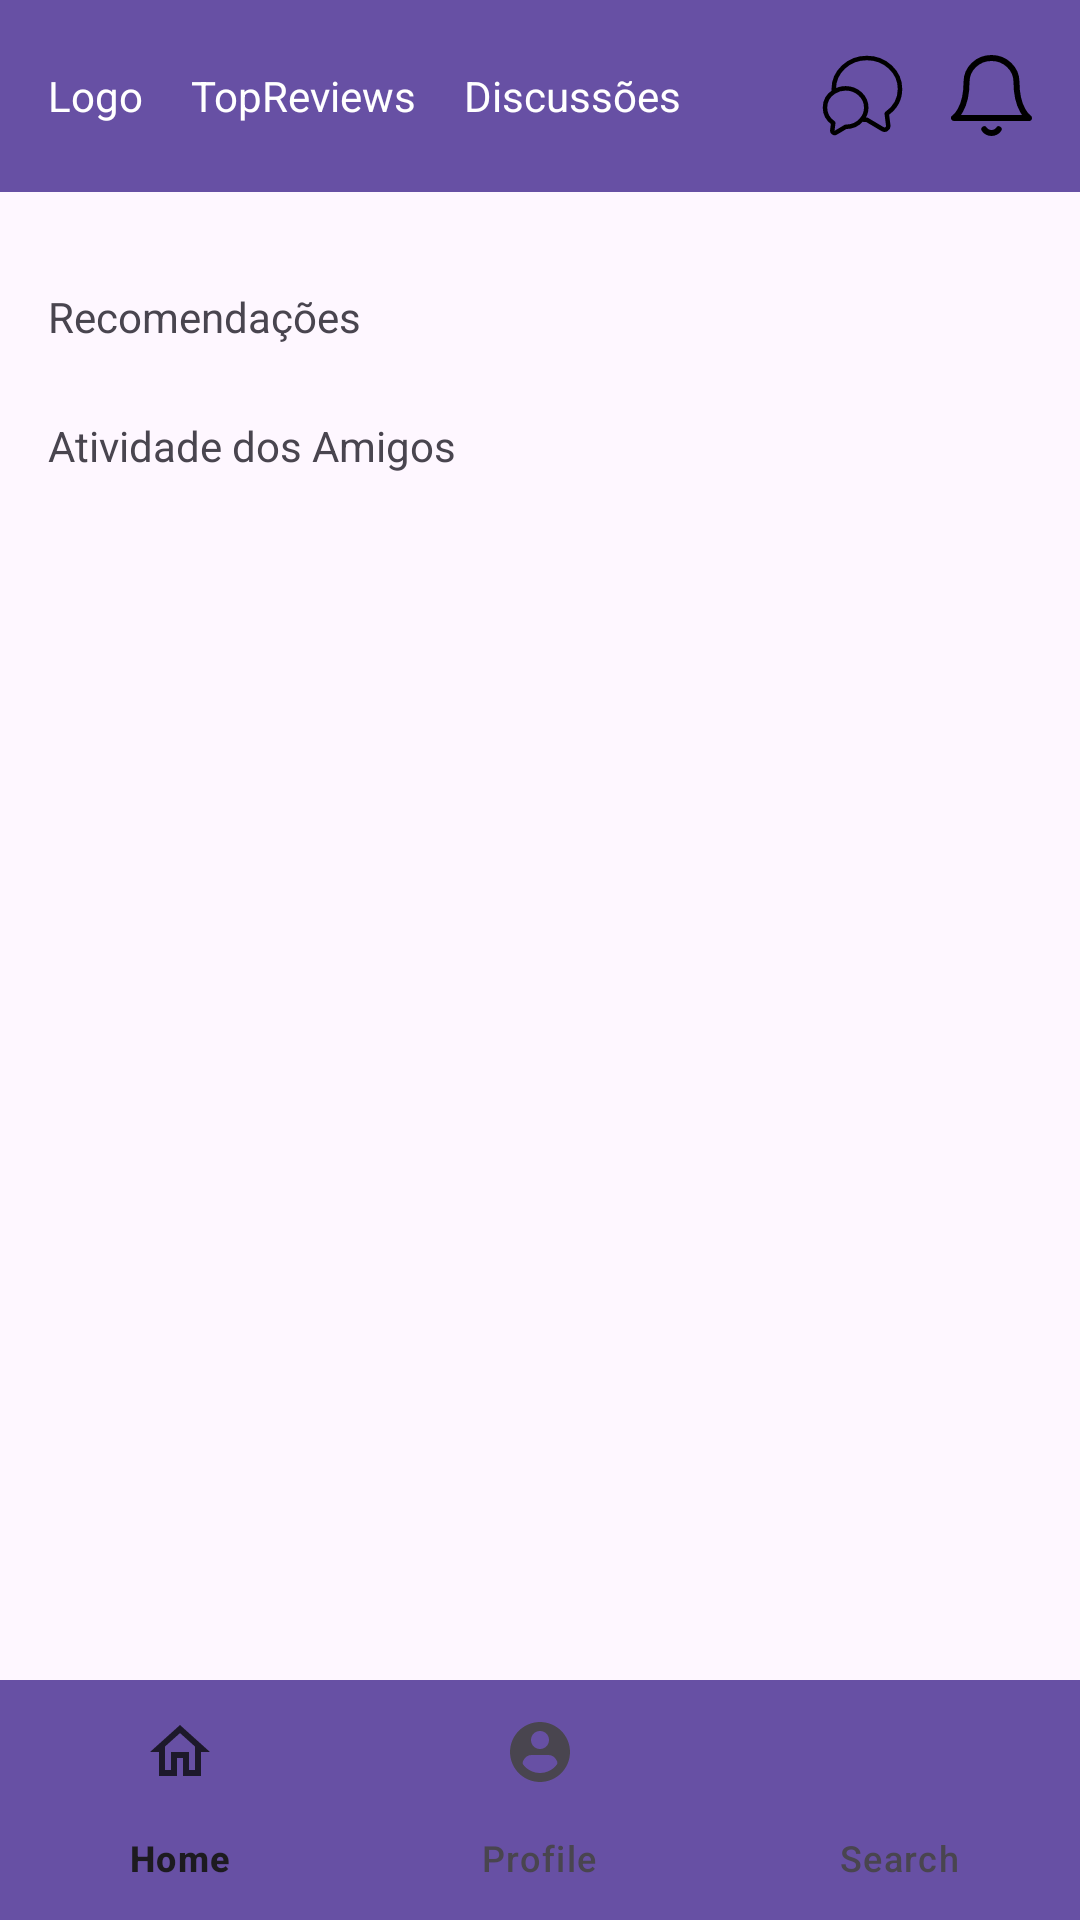

Where icons sit on this 1080 x 1920 app screen, as Rect(x1, y1, x2, y2):
Chat: Rect(822, 55, 903, 136)
Notificações: Rect(951, 55, 1032, 136)
